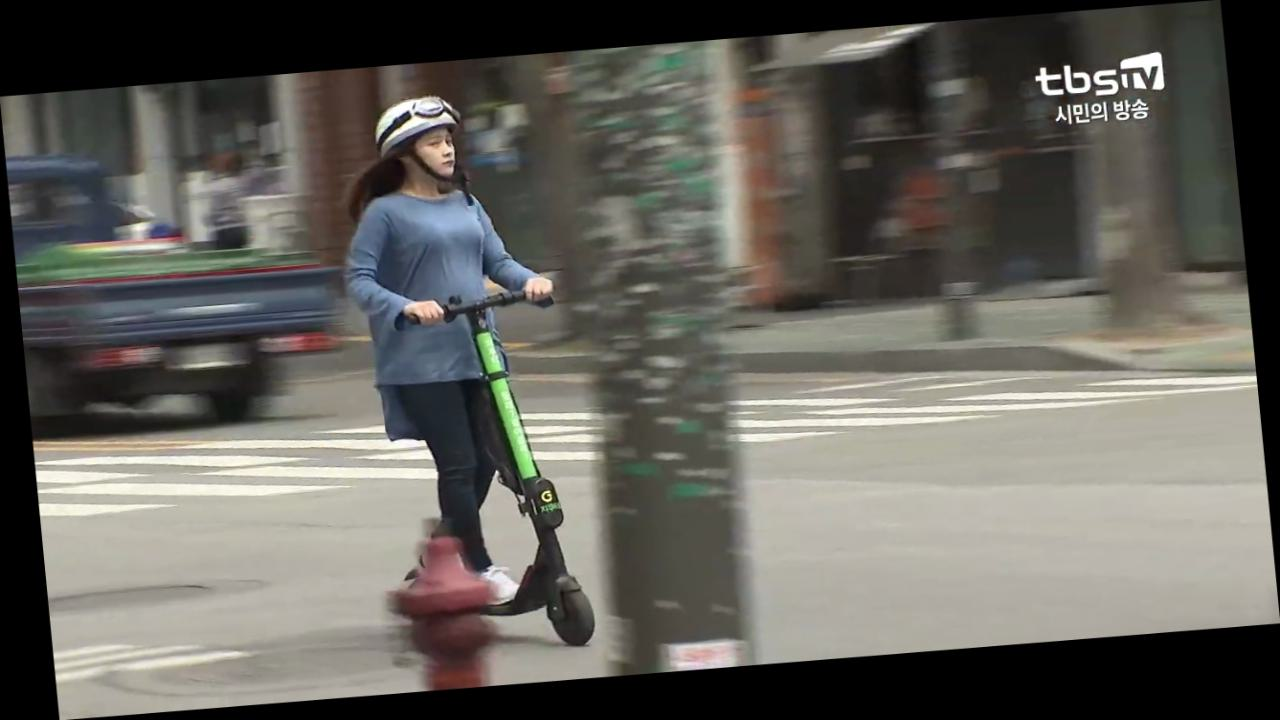helmet: (327, 82, 604, 665)
